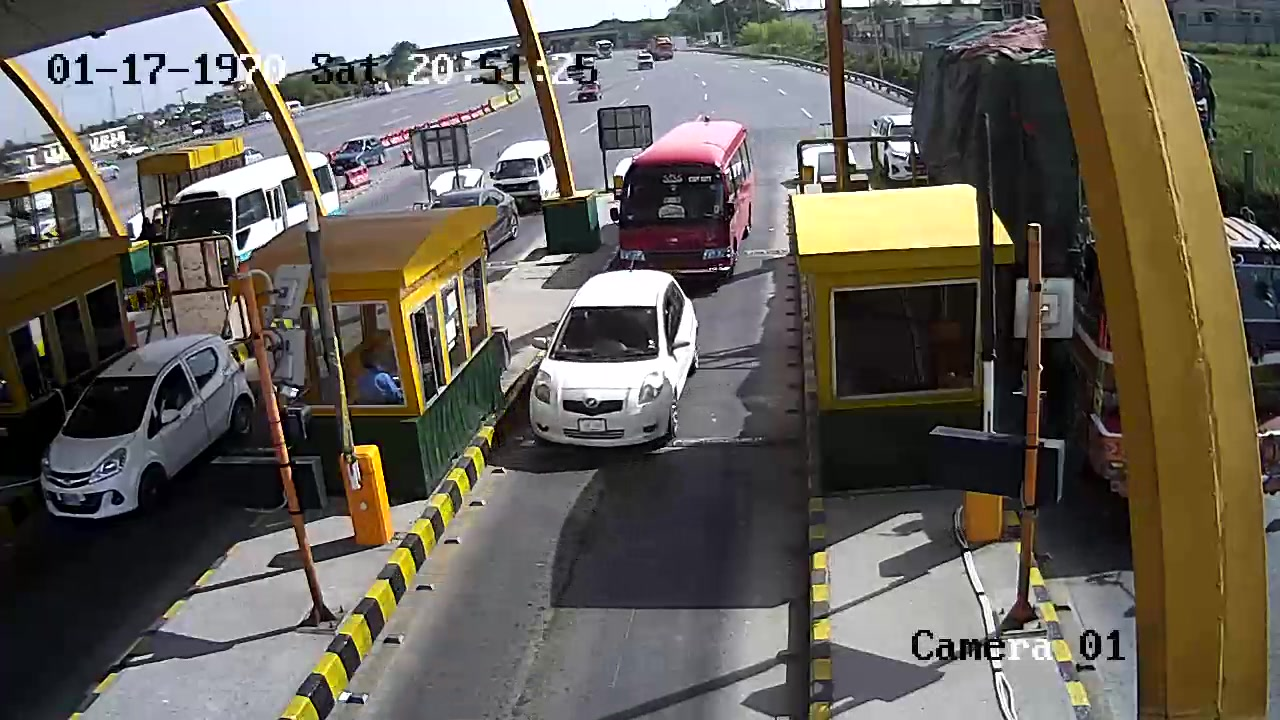F1: (521, 266, 699, 462)
